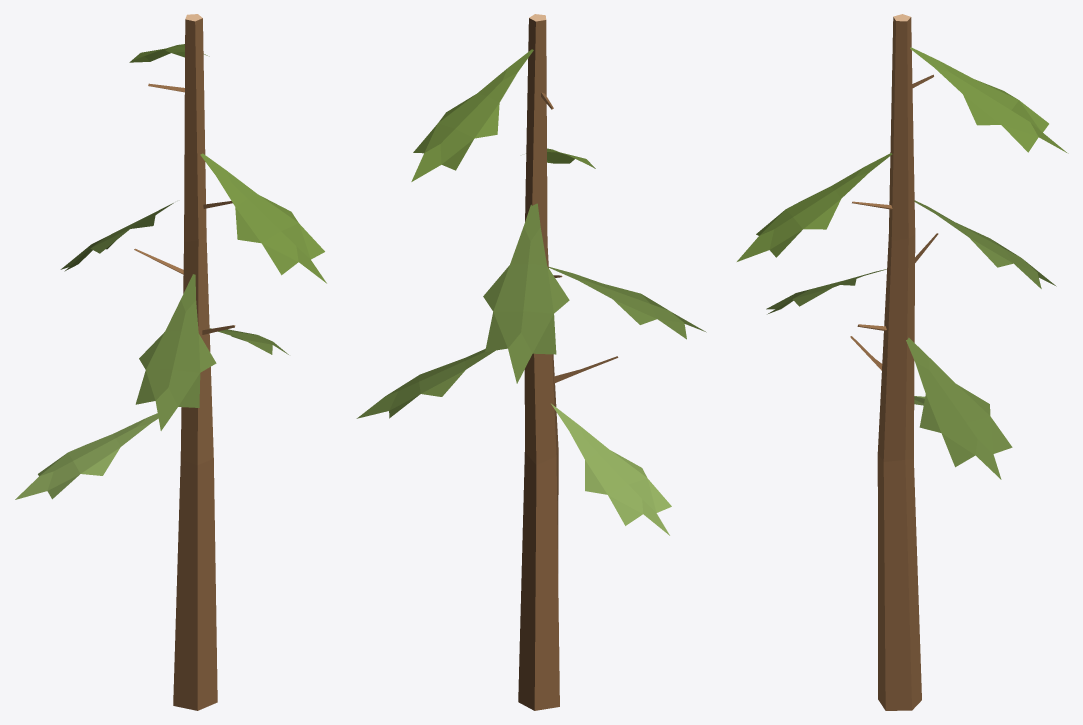
The model's file is Dead_Pine_Tree_crk_l_02.fbx.
The picture shows the model from 3 angles, left to right: view 1: azimuth 30°, elevation 25°; view 2: azimuth 150°, elevation 25°; view 3: azimuth 270°, elevation 25°; orthographic projection.
Parts seen in each view (by area): view 1: Dead_Pine_Tree_crk_l_02; view 2: Dead_Pine_Tree_crk_l_02; view 3: Dead_Pine_Tree_crk_l_02.
Boxes of the visible parts, box(x1,y1,x2,y2) form: Dead_Pine_Tree_crk_l_02: box(15, 14, 326, 710); Dead_Pine_Tree_crk_l_02: box(356, 14, 706, 710); Dead_Pine_Tree_crk_l_02: box(737, 14, 1068, 710).
Bounding box in the file's own units: 459 × 1042 × 459.
